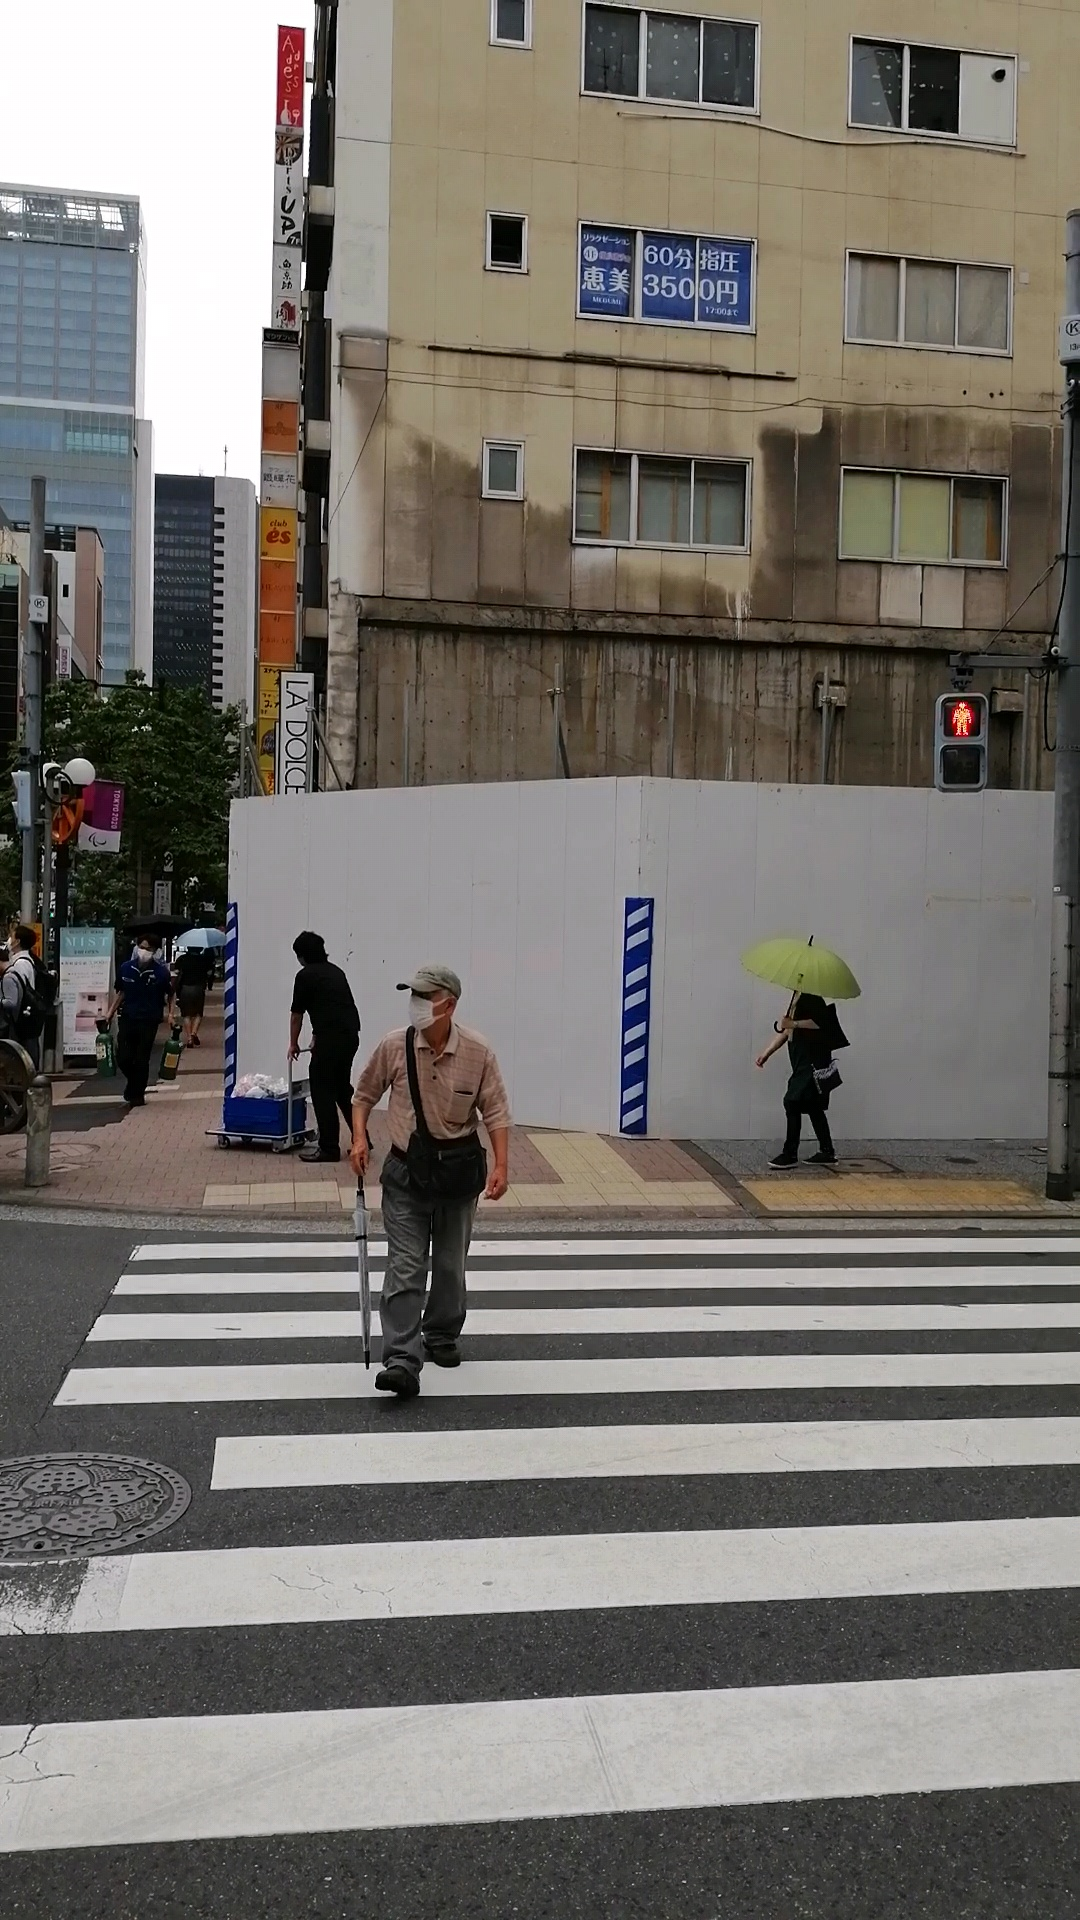red: (935, 692, 986, 793)
